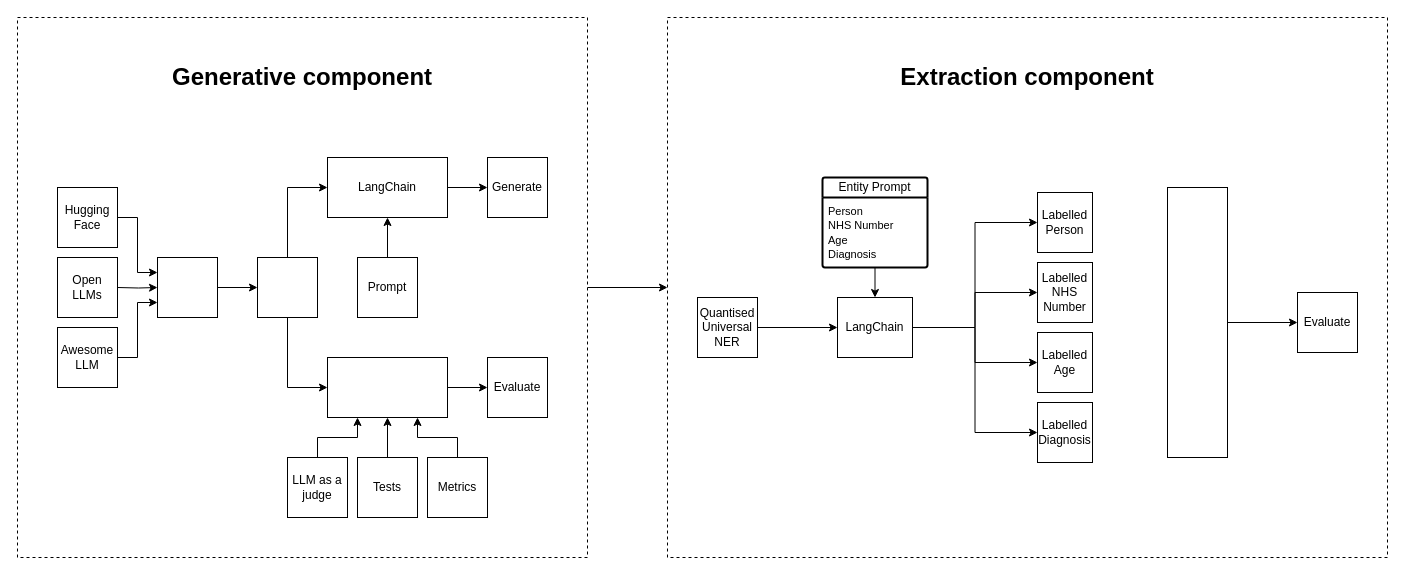
Image size: 1405x575. Some labels were removed from this diagram. Here are the shapes that lost their labels. From the top down, the centre of each, then its label:
the point at 187,287: Download model weights
the point at 287,287: Quantise
the point at 1197,322: Manually Labelled Dataset
the point at 387,387: PromptTools
